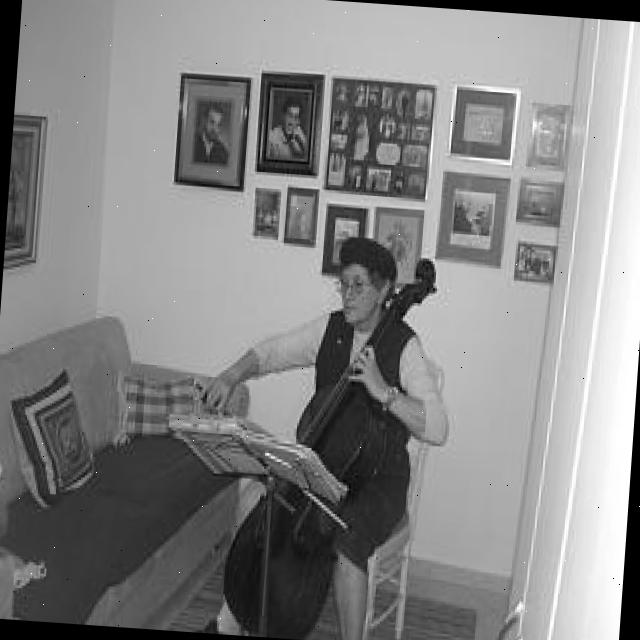cello: (219, 243, 446, 640)
